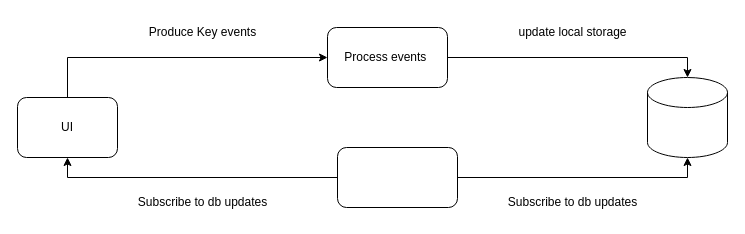
Image size: 745x234. Some labels were removed from this diagram. The box of each missing label's shape, as (x1, y1, x2, y2) in pixels:
DB: (646, 76, 728, 158)
WPM Calculator: (336, 146, 458, 208)
